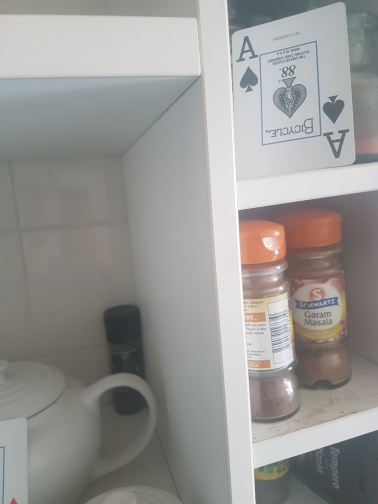ace: (230, 2, 357, 179)
